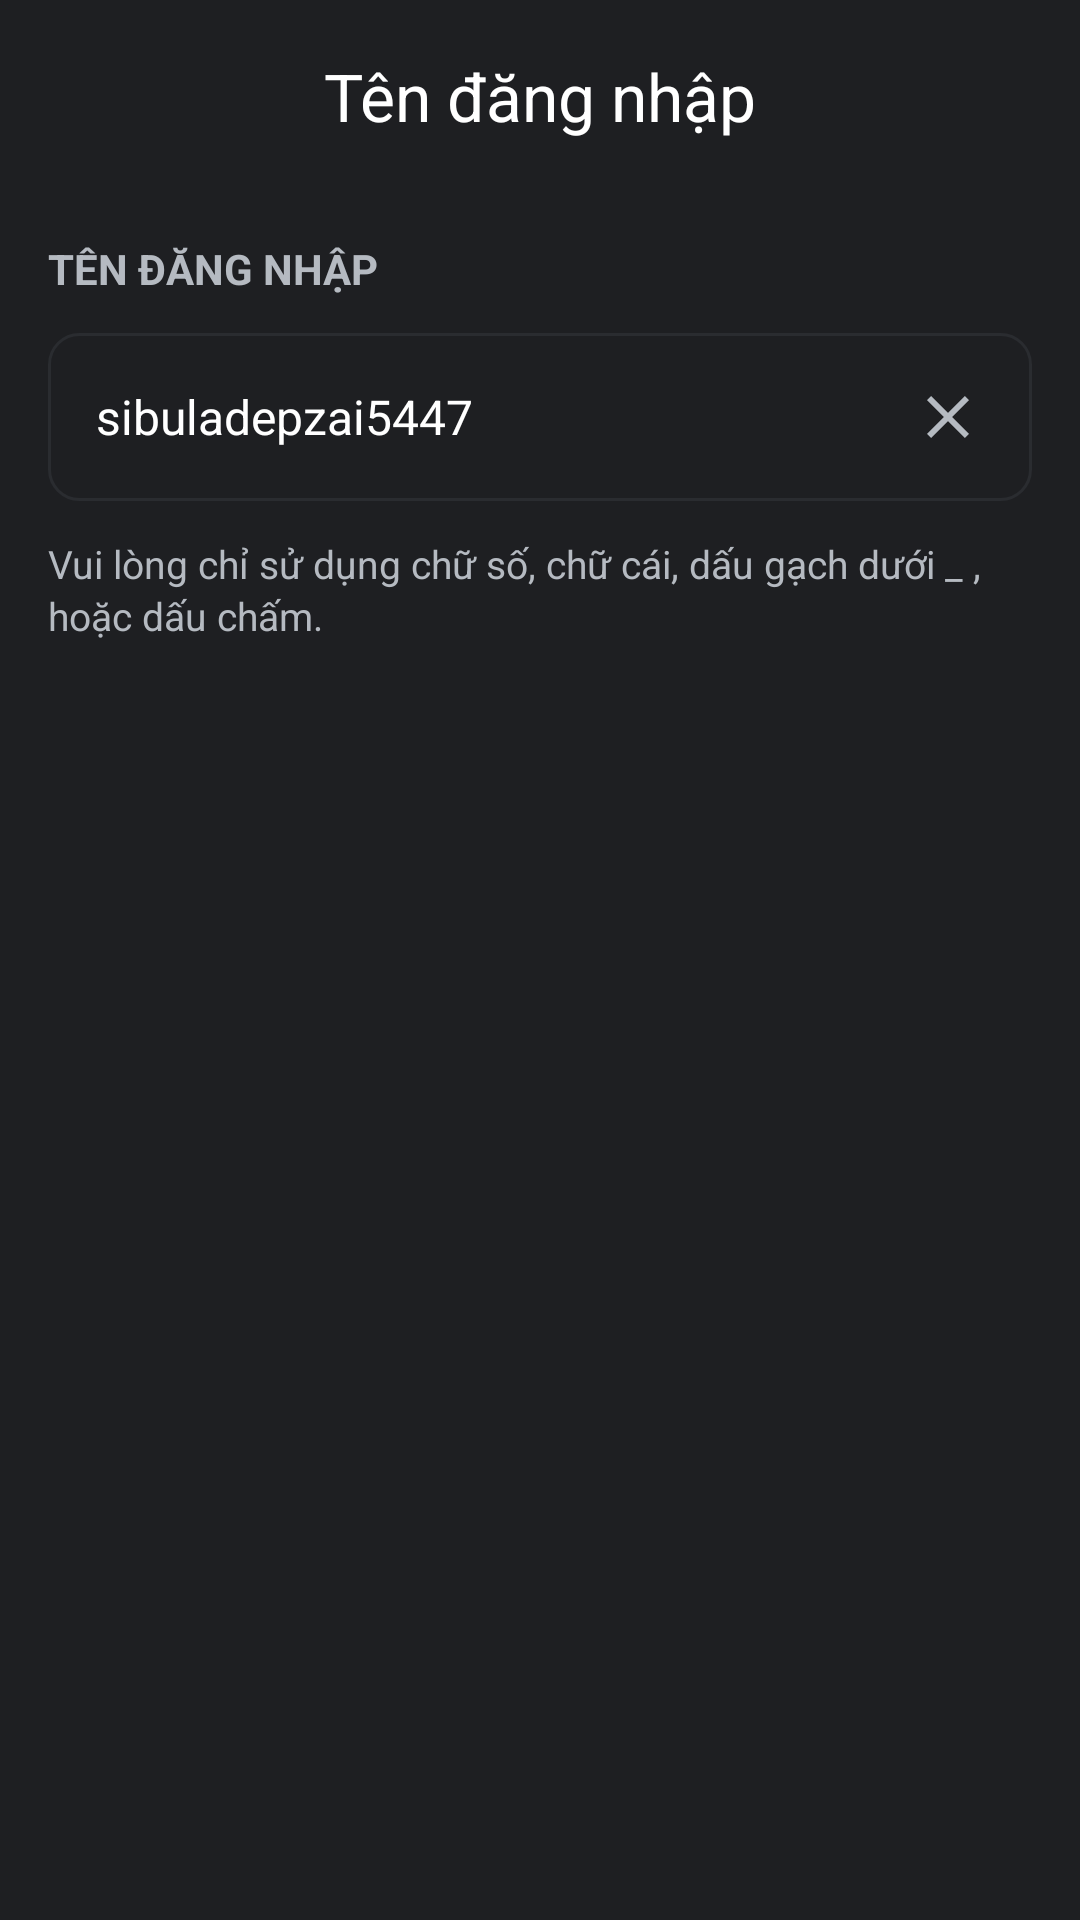

Locate icon controls on the screen. Image size 1080×1920, boxes as (x1, y1, x2, y2).
clear: (927, 396, 969, 438)
